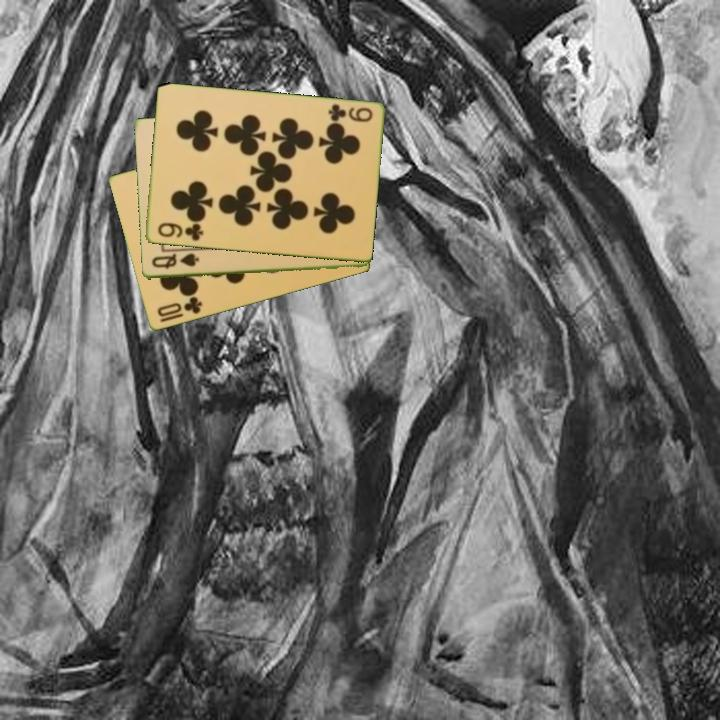10c: (153, 293, 205, 320)
9c: (154, 219, 206, 244), (324, 101, 375, 125)
Qs: (148, 251, 201, 272)
